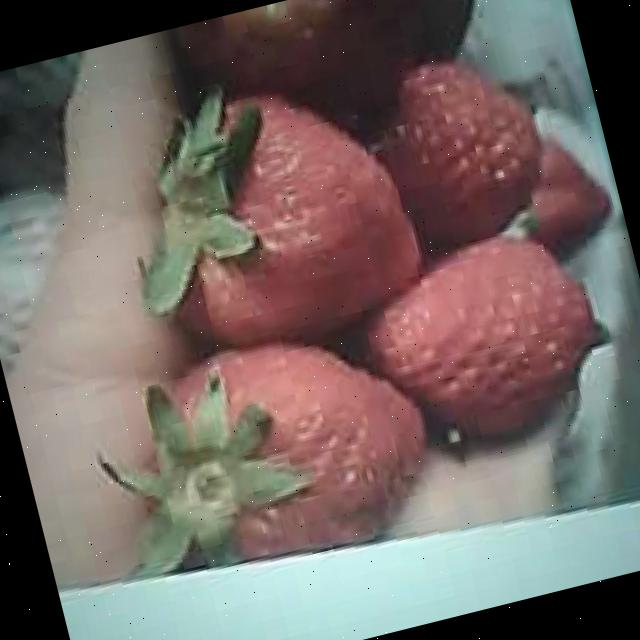strawberry: (136, 64, 433, 354), (142, 310, 448, 588), (364, 218, 616, 454)
